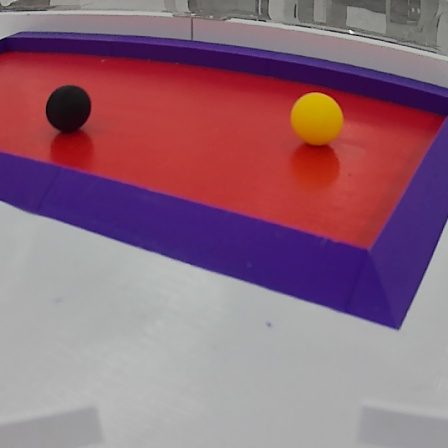black: (49, 85, 91, 128)
red_aim: (1, 27, 447, 332)
yellow: (289, 94, 345, 149)
